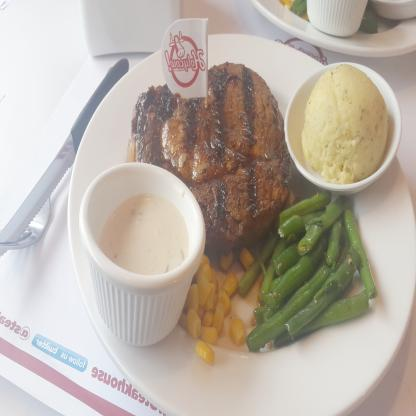Carne: (134, 72, 283, 237)
